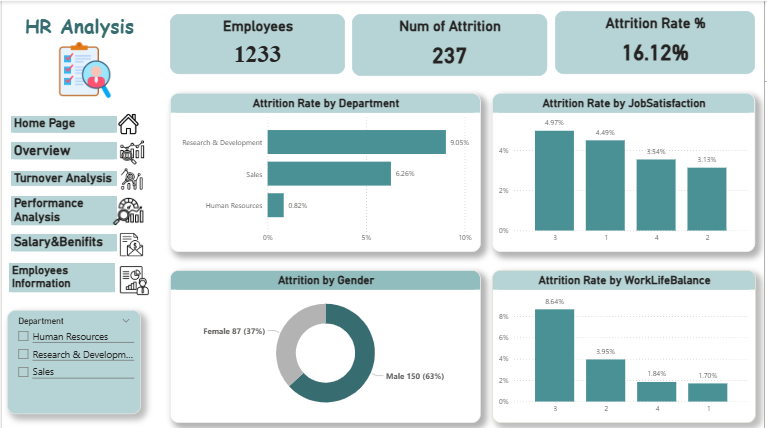

The page's visual inventory and layout, read from the dashboard file:
{"tool":"powerbi","page":{"name":"Turnover Analysis","canvas":[1280,720],"ordinal":2},"visuals":[{"type":"card","title":"Attrition Rate %","fields":{"Values":["Project-DEPI.Attrition Rate"]},"box":[928.9,16.8,336,105.8],"z":0},{"type":"textbox","title":"Home Page","box":[15.2,193.2,178.1,28.6],"z":0,"group":"g1"},{"type":"image","box":[189.9,440.1,65.5,58.8],"z":0,"group":"g2"},{"type":"card","title":"Num of Attrition","fields":{"Values":["CountNonNull(Project-DEPI.Attrition)"]},"box":[587.9,21.8,327.6,104.1],"z":1000},{"type":"group","id":"g1","title":"Group 1","box":[11.8,184.8,250.3,307.4],"z":1000,"group":"g2"},{"type":"textbox","title":"Overview","box":[15.2,236.9,178.1,28.6],"z":1000,"group":"g1"},{"type":"card","title":"Employees","fields":{"Values":["Project-DEPI.Employees"]},"box":[282.2,21.8,294,100.8],"z":2000},{"type":"textbox","title":"Turnover Analysis","box":[15.2,285.6,178.1,25.2],"z":2000,"group":"g1"},{"type":"clusteredColumnChart","fields":{"Category":["Project-DEPI.JobSatisfaction"],"Y":["Project-DEPI.Attrition Rate"]},"box":[823.1,154.5,441.8,267.1],"z":3000},{"type":"textbox","title":"Performance Analysis","box":[15.2,327.6,178.1,48.7],"z":3000,"group":"g1"},{"type":"clusteredBarChart","fields":{"Category":["Project-DEPI.Department"],"Y":["Project-DEPI.Attrition Rate"]},"box":[282.2,154.5,522.4,267.1],"z":4000},{"type":"textbox","title":"Salary&Benifits","box":[15.2,391.4,178.1,30.2],"z":4000,"group":"g1"},{"type":"textbox","title":"Employees Information","box":[11.8,440.1,178.1,52.1],"z":5000,"group":"g1"},{"type":"clusteredColumnChart","fields":{"Category":["Project-DEPI.WorkLifeBalance"],"Y":["Project-DEPI.Attrition Rate"]},"box":[823.1,451.9,443.5,257],"z":5000},{"type":"textbox","title":"HR Analysis","box":[8.4,18.5,243.6,53.8],"z":6000,"group":"g3"},{"type":"image","box":[176.4,184.8,72.2,43.7],"z":6000,"group":"g1"},{"type":"slicer","fields":{"Values":["Project-DEPI.Department"]},"box":[8.4,519.1,225.1,174.7],"z":6000},{"type":"image","box":[50.3,64,178.1,104.1],"z":7000,"group":"g3"},{"type":"image","box":[174.7,228.5,87.3,52.1],"z":7000,"group":"g1"},{"type":"donutChart","title":"Attrition by Gender","fields":{"Category":["Project-DEPI.Gender"],"Y":["CountNonNull(Project-DEPI.Attrition)"]},"box":[282.2,451.9,522.4,257],"z":7000},{"type":"group","id":"g2","title":"Group 2","box":[11.8,184.8,250.3,314.1],"z":8000},{"type":"image","box":[184.8,275.5,67.2,47],"z":8000,"group":"g1"},{"type":"group","id":"g3","title":"Group 3","box":[8.4,18.5,243.6,149.5],"z":9000},{"type":"image","box":[173.1,322.5,79,62.2],"z":9000,"group":"g1"},{"type":"image","box":[173.1,384.7,89,48.7],"z":10000,"group":"g1"}]}

Visuals, with their boxes in screenshot pixels (x1, y1, x2, y2), scaled from the page's 1280x720 canvas onto the 767x428 screenshot:
"Attrition Rate %" card: (557,10,758,73)
"Home Page" textbox: (9,115,116,132)
image: (114,262,153,297)
"Num of Attrition" card: (352,13,549,75)
"Group 1" group: (7,110,157,293)
"Overview" textbox: (9,141,116,158)
"Employees" card: (169,13,345,73)
"Turnover Analysis" textbox: (9,170,116,185)
clusteredColumnChart - Project-DEPI.JobSatisfaction x Project-DEPI.Attrition Rate: (493,92,758,251)
"Performance Analysis" textbox: (9,195,116,224)
clusteredBarChart - Project-DEPI.Department x Project-DEPI.Attrition Rate: (169,92,482,251)
"Salary&Benifits" textbox: (9,233,116,251)
"Employees Information" textbox: (7,262,114,293)
clusteredColumnChart - Project-DEPI.WorkLifeBalance x Project-DEPI.Attrition Rate: (493,269,759,421)
"HR Analysis" textbox: (5,11,151,43)
image: (106,110,149,136)
slicer - Project-DEPI.Department: (5,309,140,412)
image: (30,38,137,100)
image: (105,136,157,167)
"Attrition by Gender" donutChart: (169,269,482,421)
"Group 2" group: (7,110,157,297)
image: (111,164,151,192)
"Group 3" group: (5,11,151,100)
image: (104,192,151,229)
image: (104,229,157,258)
